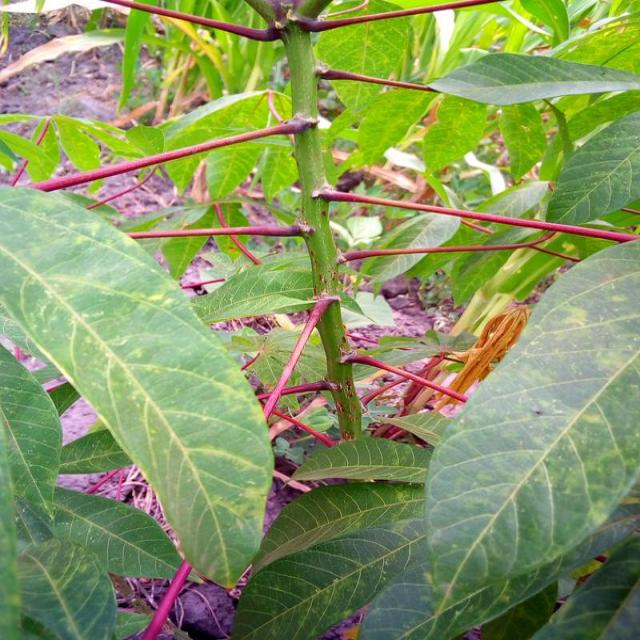cassava leaf: (0, 181, 275, 590), (421, 234, 638, 636)
